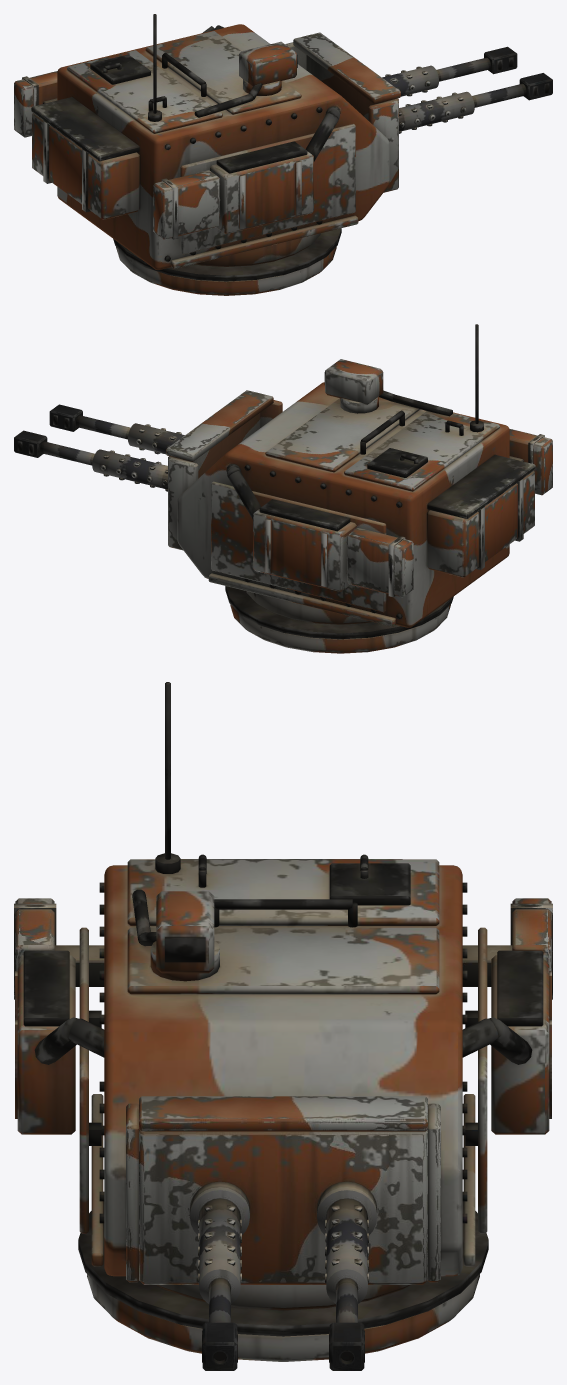
The model's file is turret_grach_t3_rust.glb.
3 views of the same model, one above another, from view 1: azimuth 30°, elevation 25°; view 2: azimuth 150°, elevation 25°; view 3: azimuth 270°, elevation 25° (orthographic). The views are drawn at different scales.
Visible parts, largest first — view 1: turret_light_t3, guns, pods; view 2: turret_light_t3, guns, pods; view 3: turret_light_t3, guns, pods.
Part boxes in pixels (bbox=[...]): turret_light_t3: bbox=[31, 14, 389, 295]; guns: bbox=[285, 32, 552, 192]; pods: bbox=[14, 71, 220, 239]; turret_light_t3: bbox=[177, 324, 535, 653]; guns: bbox=[14, 390, 282, 550]; pods: bbox=[346, 428, 552, 597]; turret_light_t3: bbox=[15, 682, 551, 1361]; guns: bbox=[126, 1096, 440, 1370]; pods: bbox=[14, 898, 552, 999].
Bounding box in the file's own units: 1.86 × 1.09 × 1.05.
3 materials, 3 textured.
